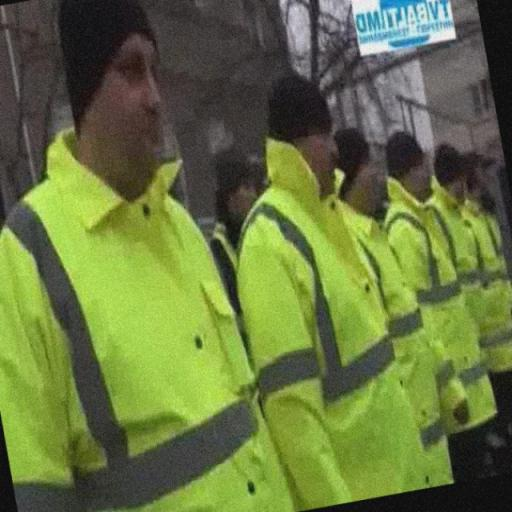Person: (6, 10, 252, 508), (226, 68, 408, 498), (387, 123, 501, 461), (330, 124, 426, 488), (436, 140, 490, 378)
vest: (0, 140, 291, 512), (236, 144, 396, 495), (384, 186, 497, 436), (346, 201, 446, 479), (434, 172, 504, 358)
